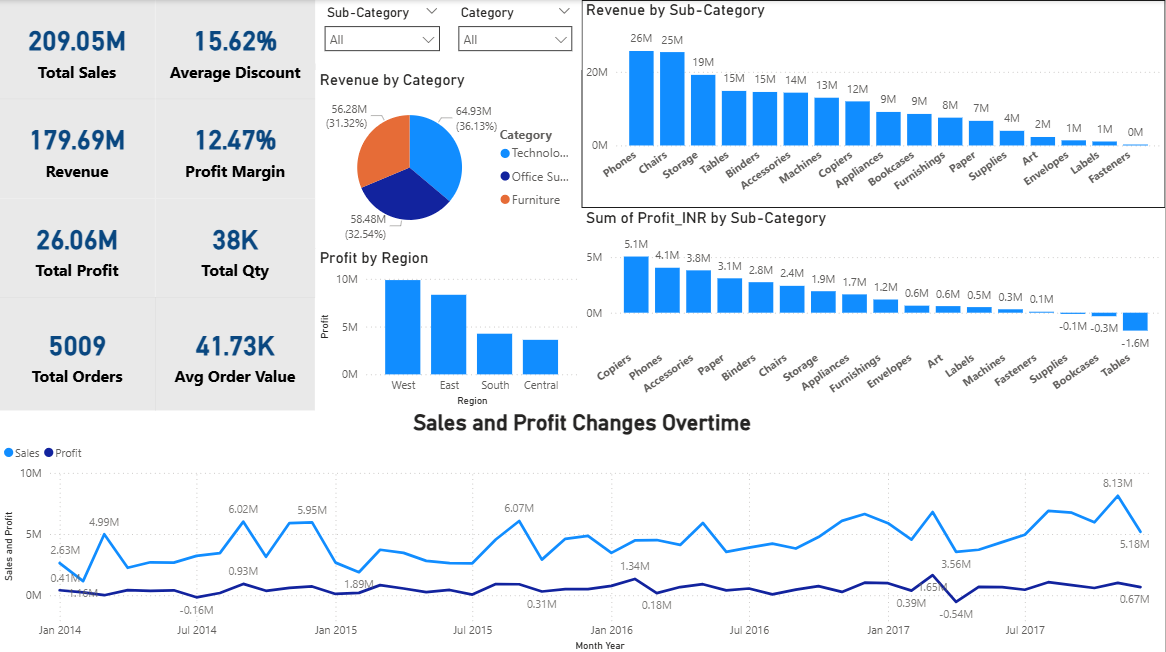

What the dashboard file says about the page in this screenshot:
{"tool":"powerbi","page":{"name":"Sales Performance Overview","canvas":[1280,720],"ordinal":0},"visuals":[{"type":"card","fields":{"Values":["Fact_Superstore.Total Sales"]},"box":[0,0,171.5,108.4],"z":0},{"type":"card","fields":{"Values":["Fact_Superstore.Total Profit"]},"box":[0,218.2,171.5,108.4],"z":1000},{"type":"card","fields":{"Values":["Fact_Superstore.Total Qty"]},"box":[171.5,218.2,175.6,108.4],"z":2000},{"type":"card","fields":{"Values":["Fact_Superstore.Average Discount"]},"box":[171.5,0,175.6,108.4],"z":3000},{"type":"card","fields":{"Values":["Fact_Superstore.Profit Margin"]},"box":[171.5,108.4,175.6,109.8],"z":4000},{"type":"lineChart","title":"Sales and Profit Changes Overtime","fields":{"Y":["Sum(Fact_Superstore.Sales_INR)","Sum(Fact_Superstore.Profit_INR)"],"Category":["Orders.Month Year"]},"box":[0,450.1,1280.3,270.3],"z":5000},{"type":"card","fields":{"Values":["Fact_Superstore.Revenue"]},"box":[0,108.4,171.5,109.8],"z":6000},{"type":"columnChart","fields":{"Y":["Sum(Fact_Superstore.Profit_INR)"],"Category":["Location.Region"]},"box":[347.1,272.4,293.6,177.9],"z":7000},{"type":"pieChart","fields":{"Y":["Fact_Superstore.Revenue"],"Category":["Products.Category"]},"box":[347.1,77.1,293.6,195.3],"z":8000},{"type":"columnChart","fields":{"Category":["Products.Sub-Category"],"Y":["Fact_Superstore.Revenue"]},"box":[639.4,0,640.6,228.9],"z":9000},{"type":"slicer","fields":{"Values":["Products.Sub-Category"]},"box":[347.1,0,146.8,69.7],"z":10000},{"type":"slicer","fields":{"Values":["Products.Category"]},"box":[493.9,0,145.5,77.1],"z":11000},{"type":"columnChart","fields":{"Category":["Products.Sub-Category"],"Y":["Sum(Fact_Superstore.Profit_INR)"]},"box":[639.4,228.9,640.6,221.4],"z":12000},{"type":"card","fields":{"Values":["Fact_Superstore.Total Orders"]},"box":[0,325.9,171.7,124.4],"z":13000},{"type":"card","fields":{"Values":["Fact_Superstore.Avg Order Value"]},"box":[171.7,325.9,175.4,124.4],"z":14000}]}

Visuals, with their boxes in screenshot pixels (x1, y1, x2, y2), scaled from the page's 1280x720 canvas onto the 1166x652 screenshot:
card - Fact_Superstore.Total Sales: locate(0, 0, 156, 98)
card - Fact_Superstore.Total Profit: locate(0, 198, 156, 296)
card - Fact_Superstore.Total Qty: locate(156, 198, 316, 296)
card - Fact_Superstore.Average Discount: locate(156, 0, 316, 98)
card - Fact_Superstore.Profit Margin: locate(156, 98, 316, 198)
"Sales and Profit Changes Overtime" lineChart: locate(0, 408, 1165, 651)
card - Fact_Superstore.Revenue: locate(0, 98, 156, 198)
columnChart - Sum(Fact_Superstore.Profit_INR) x Location.Region: locate(316, 247, 584, 408)
pieChart - Fact_Superstore.Revenue x Products.Category: locate(316, 70, 584, 247)
columnChart - Products.Sub-Category x Fact_Superstore.Revenue: locate(582, 0, 1165, 207)
slicer - Products.Sub-Category: locate(316, 0, 450, 63)
slicer - Products.Category: locate(450, 0, 582, 70)
columnChart - Products.Sub-Category x Sum(Fact_Superstore.Profit_INR): locate(582, 207, 1165, 408)
card - Fact_Superstore.Total Orders: locate(0, 295, 156, 408)
card - Fact_Superstore.Avg Order Value: locate(156, 295, 316, 408)
